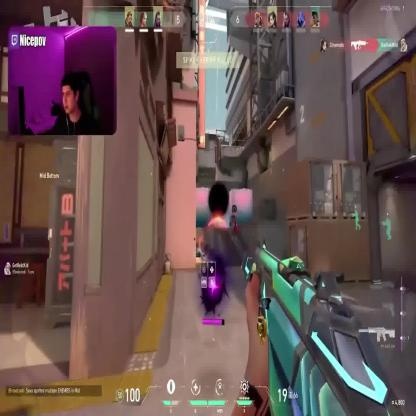enemy: (231, 206, 239, 240)
enemy_head: (232, 206, 237, 216)
